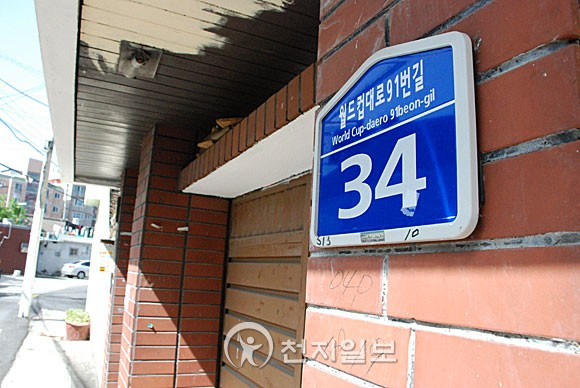building_license_plate1: (310, 31, 479, 249)
